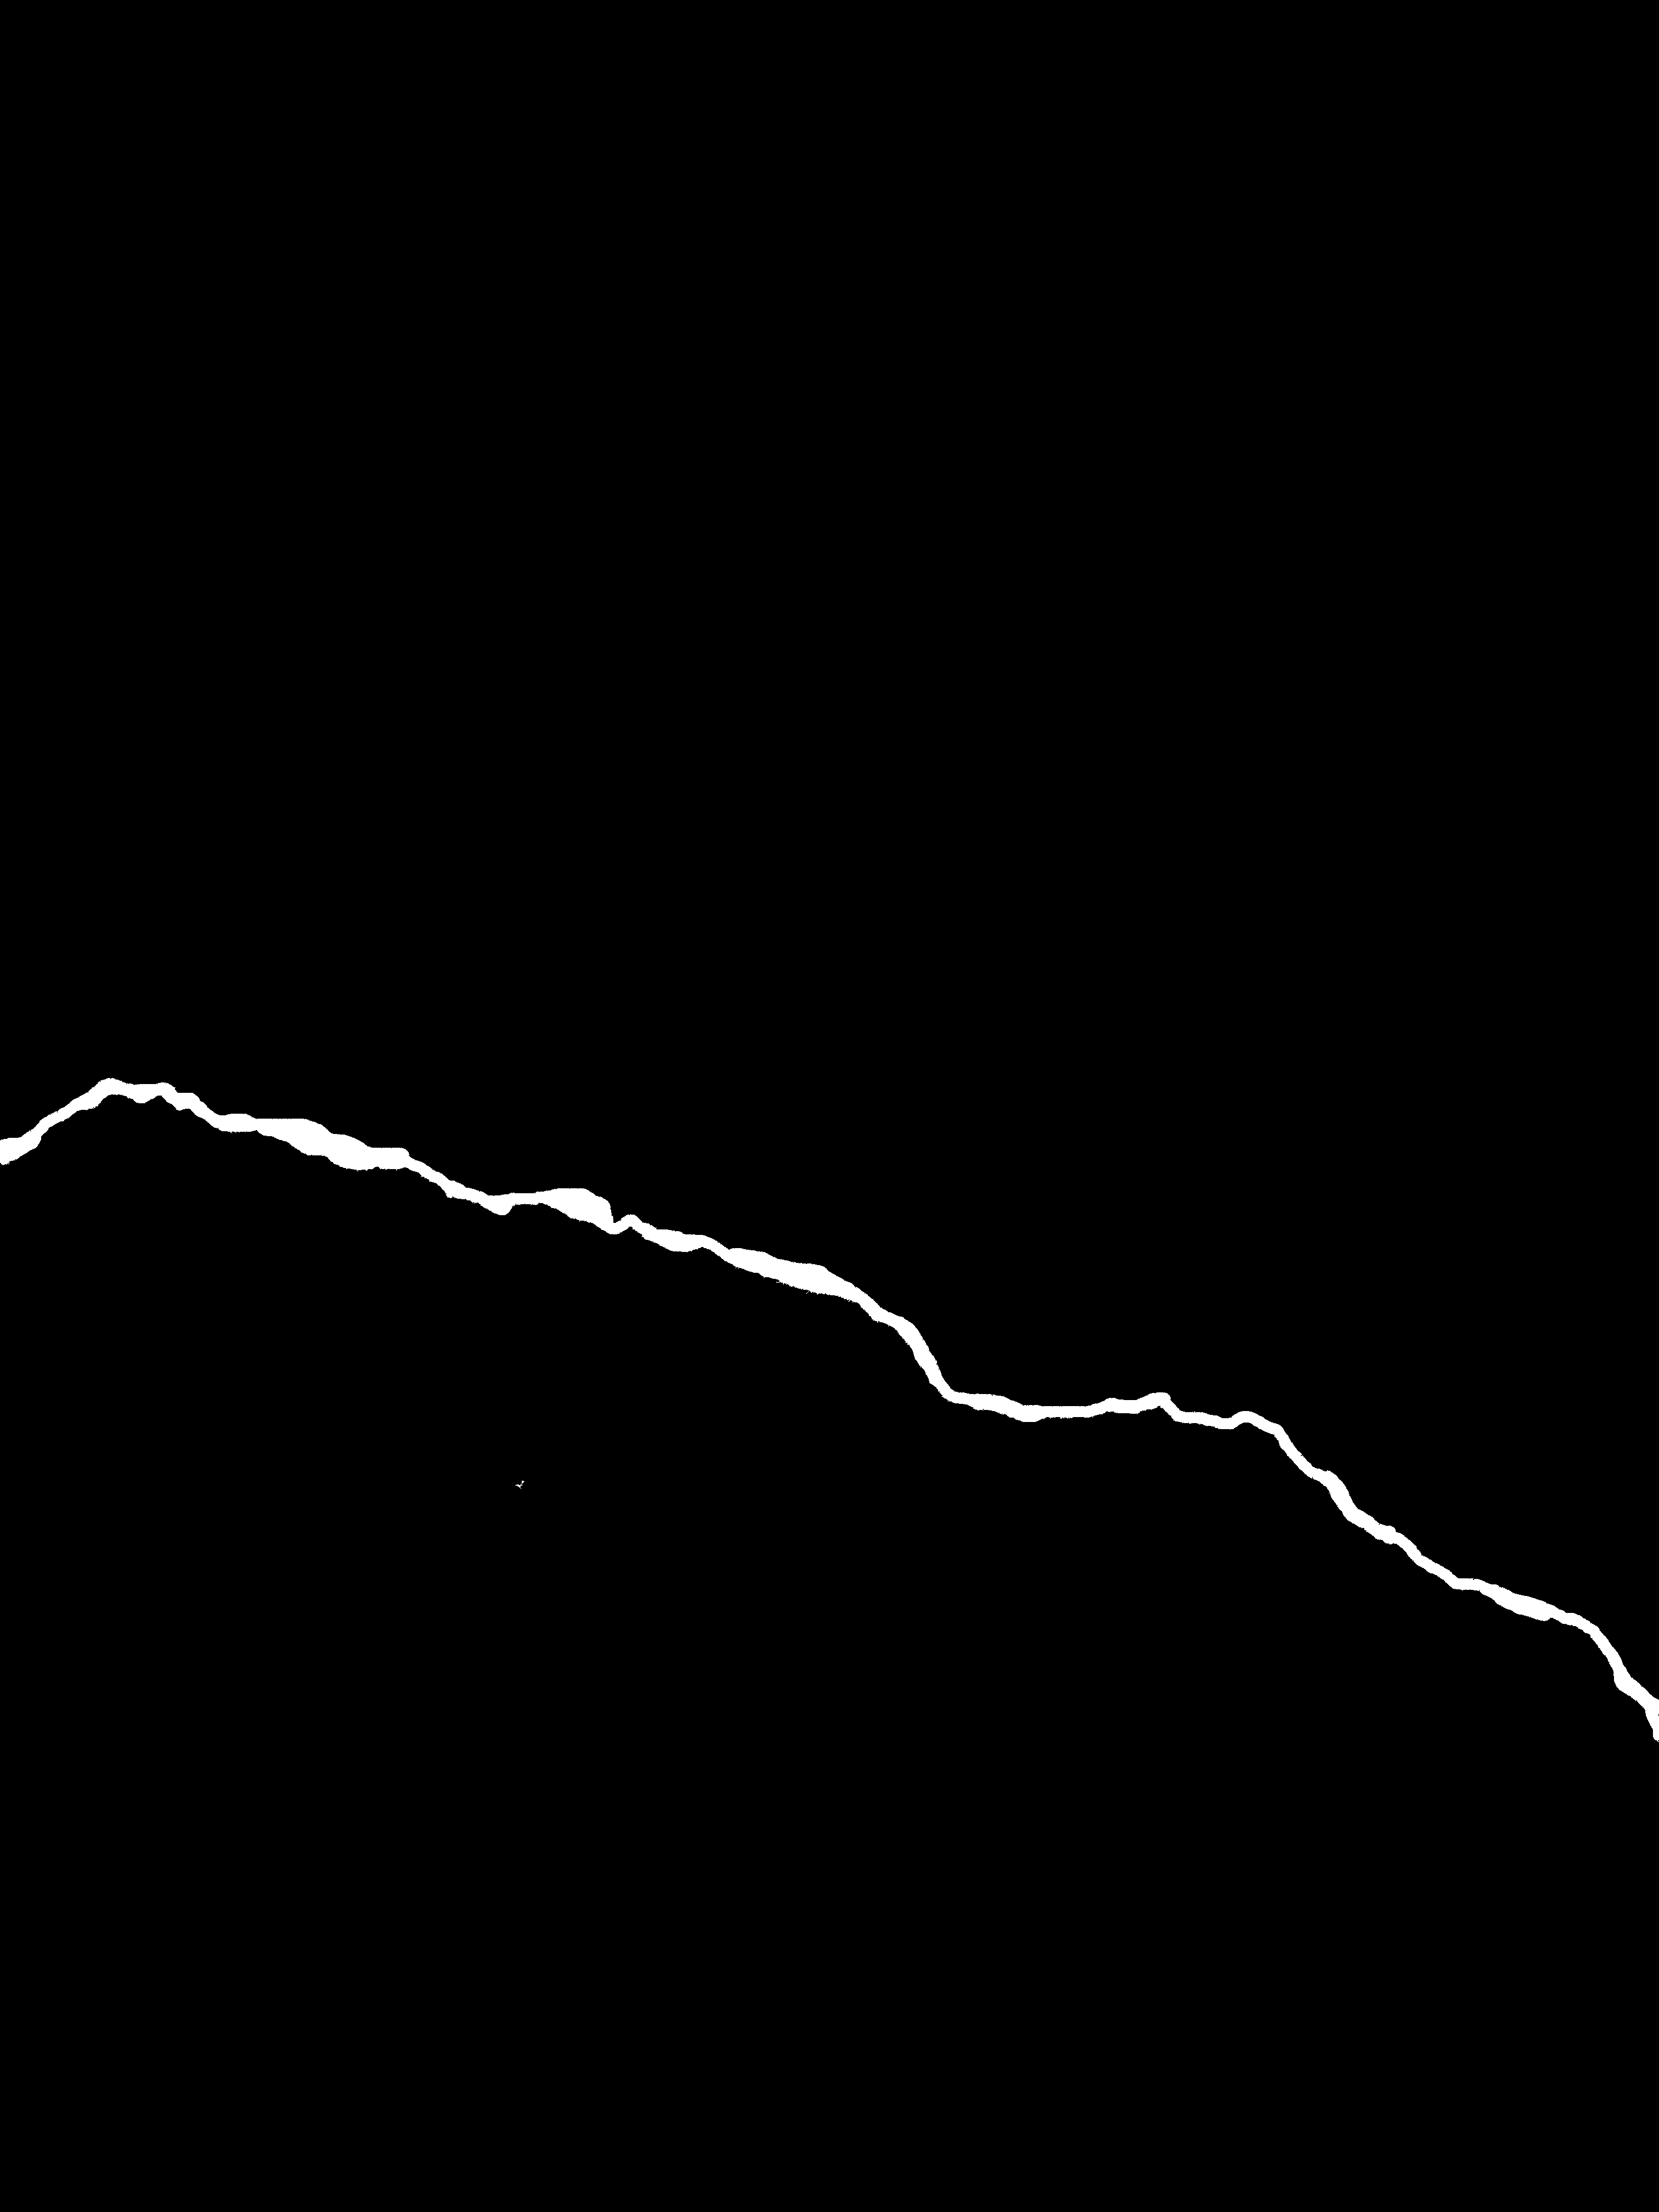Crack: (0, 1057, 1659, 1756)
